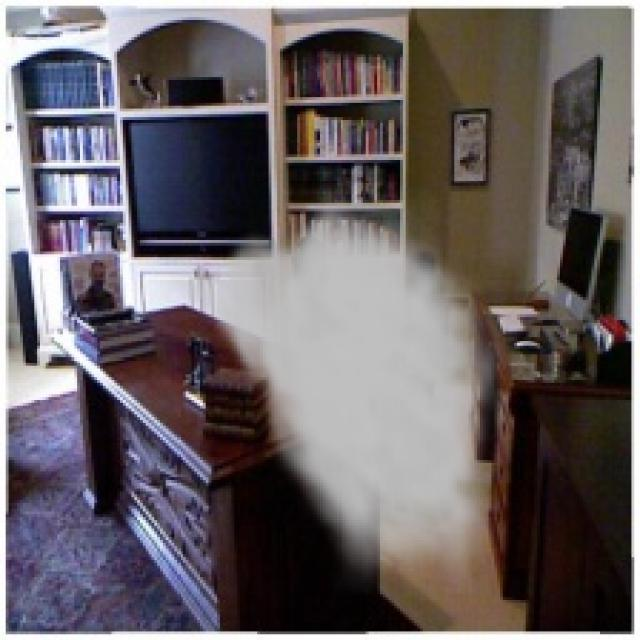smoke: (154, 186, 506, 597)
